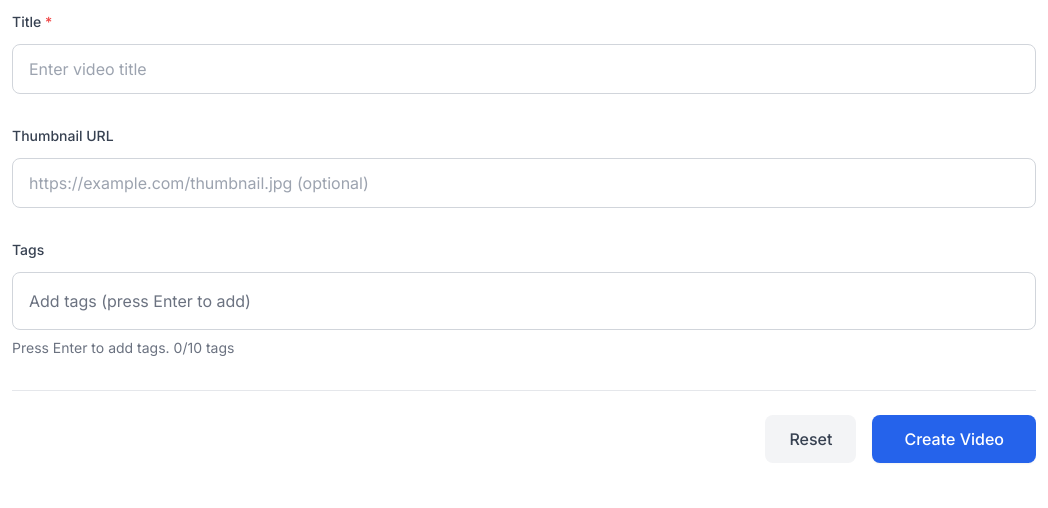
Test case: VideoForm › shows validation errors for invalid data
Click the button "Create Video" at [954, 439], box x1=872 y1=415 x2=1036 y2=463
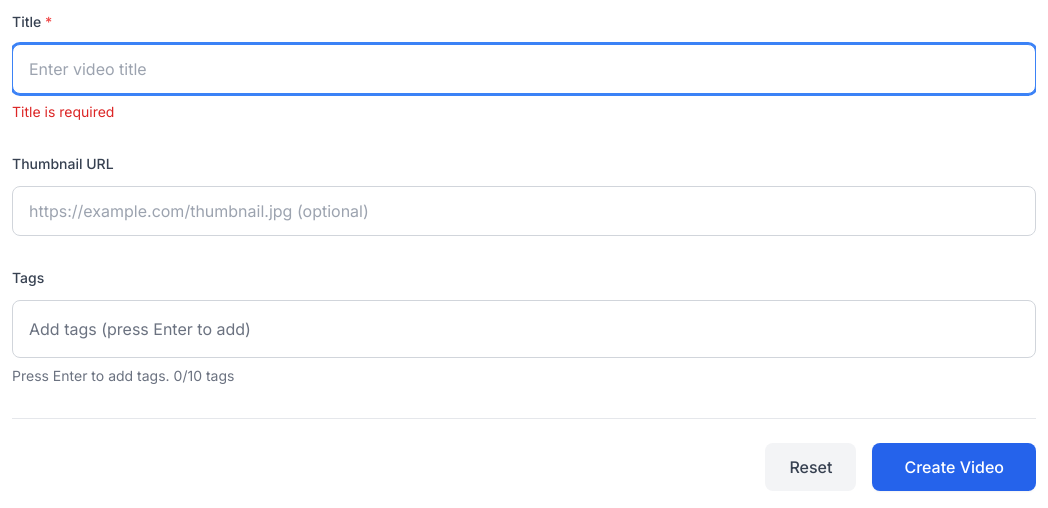
Now the text "Title is required" is shown, box x1=12 y1=103 x2=114 y2=120
